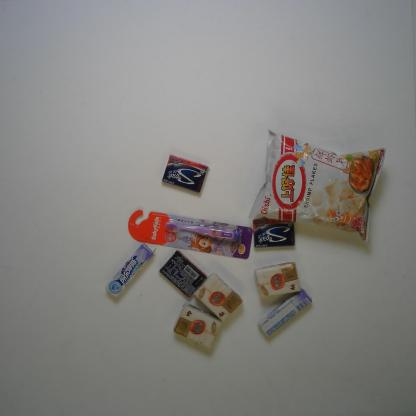Candy: (104, 240, 157, 298), (256, 286, 313, 338)
Gum: (158, 248, 209, 300), (160, 152, 210, 195), (251, 216, 297, 250)
Personal Hygiene: (126, 208, 254, 259)
Puffed Food: (246, 128, 388, 244)
Tissue: (192, 271, 244, 324), (172, 301, 222, 350), (253, 260, 302, 300)
